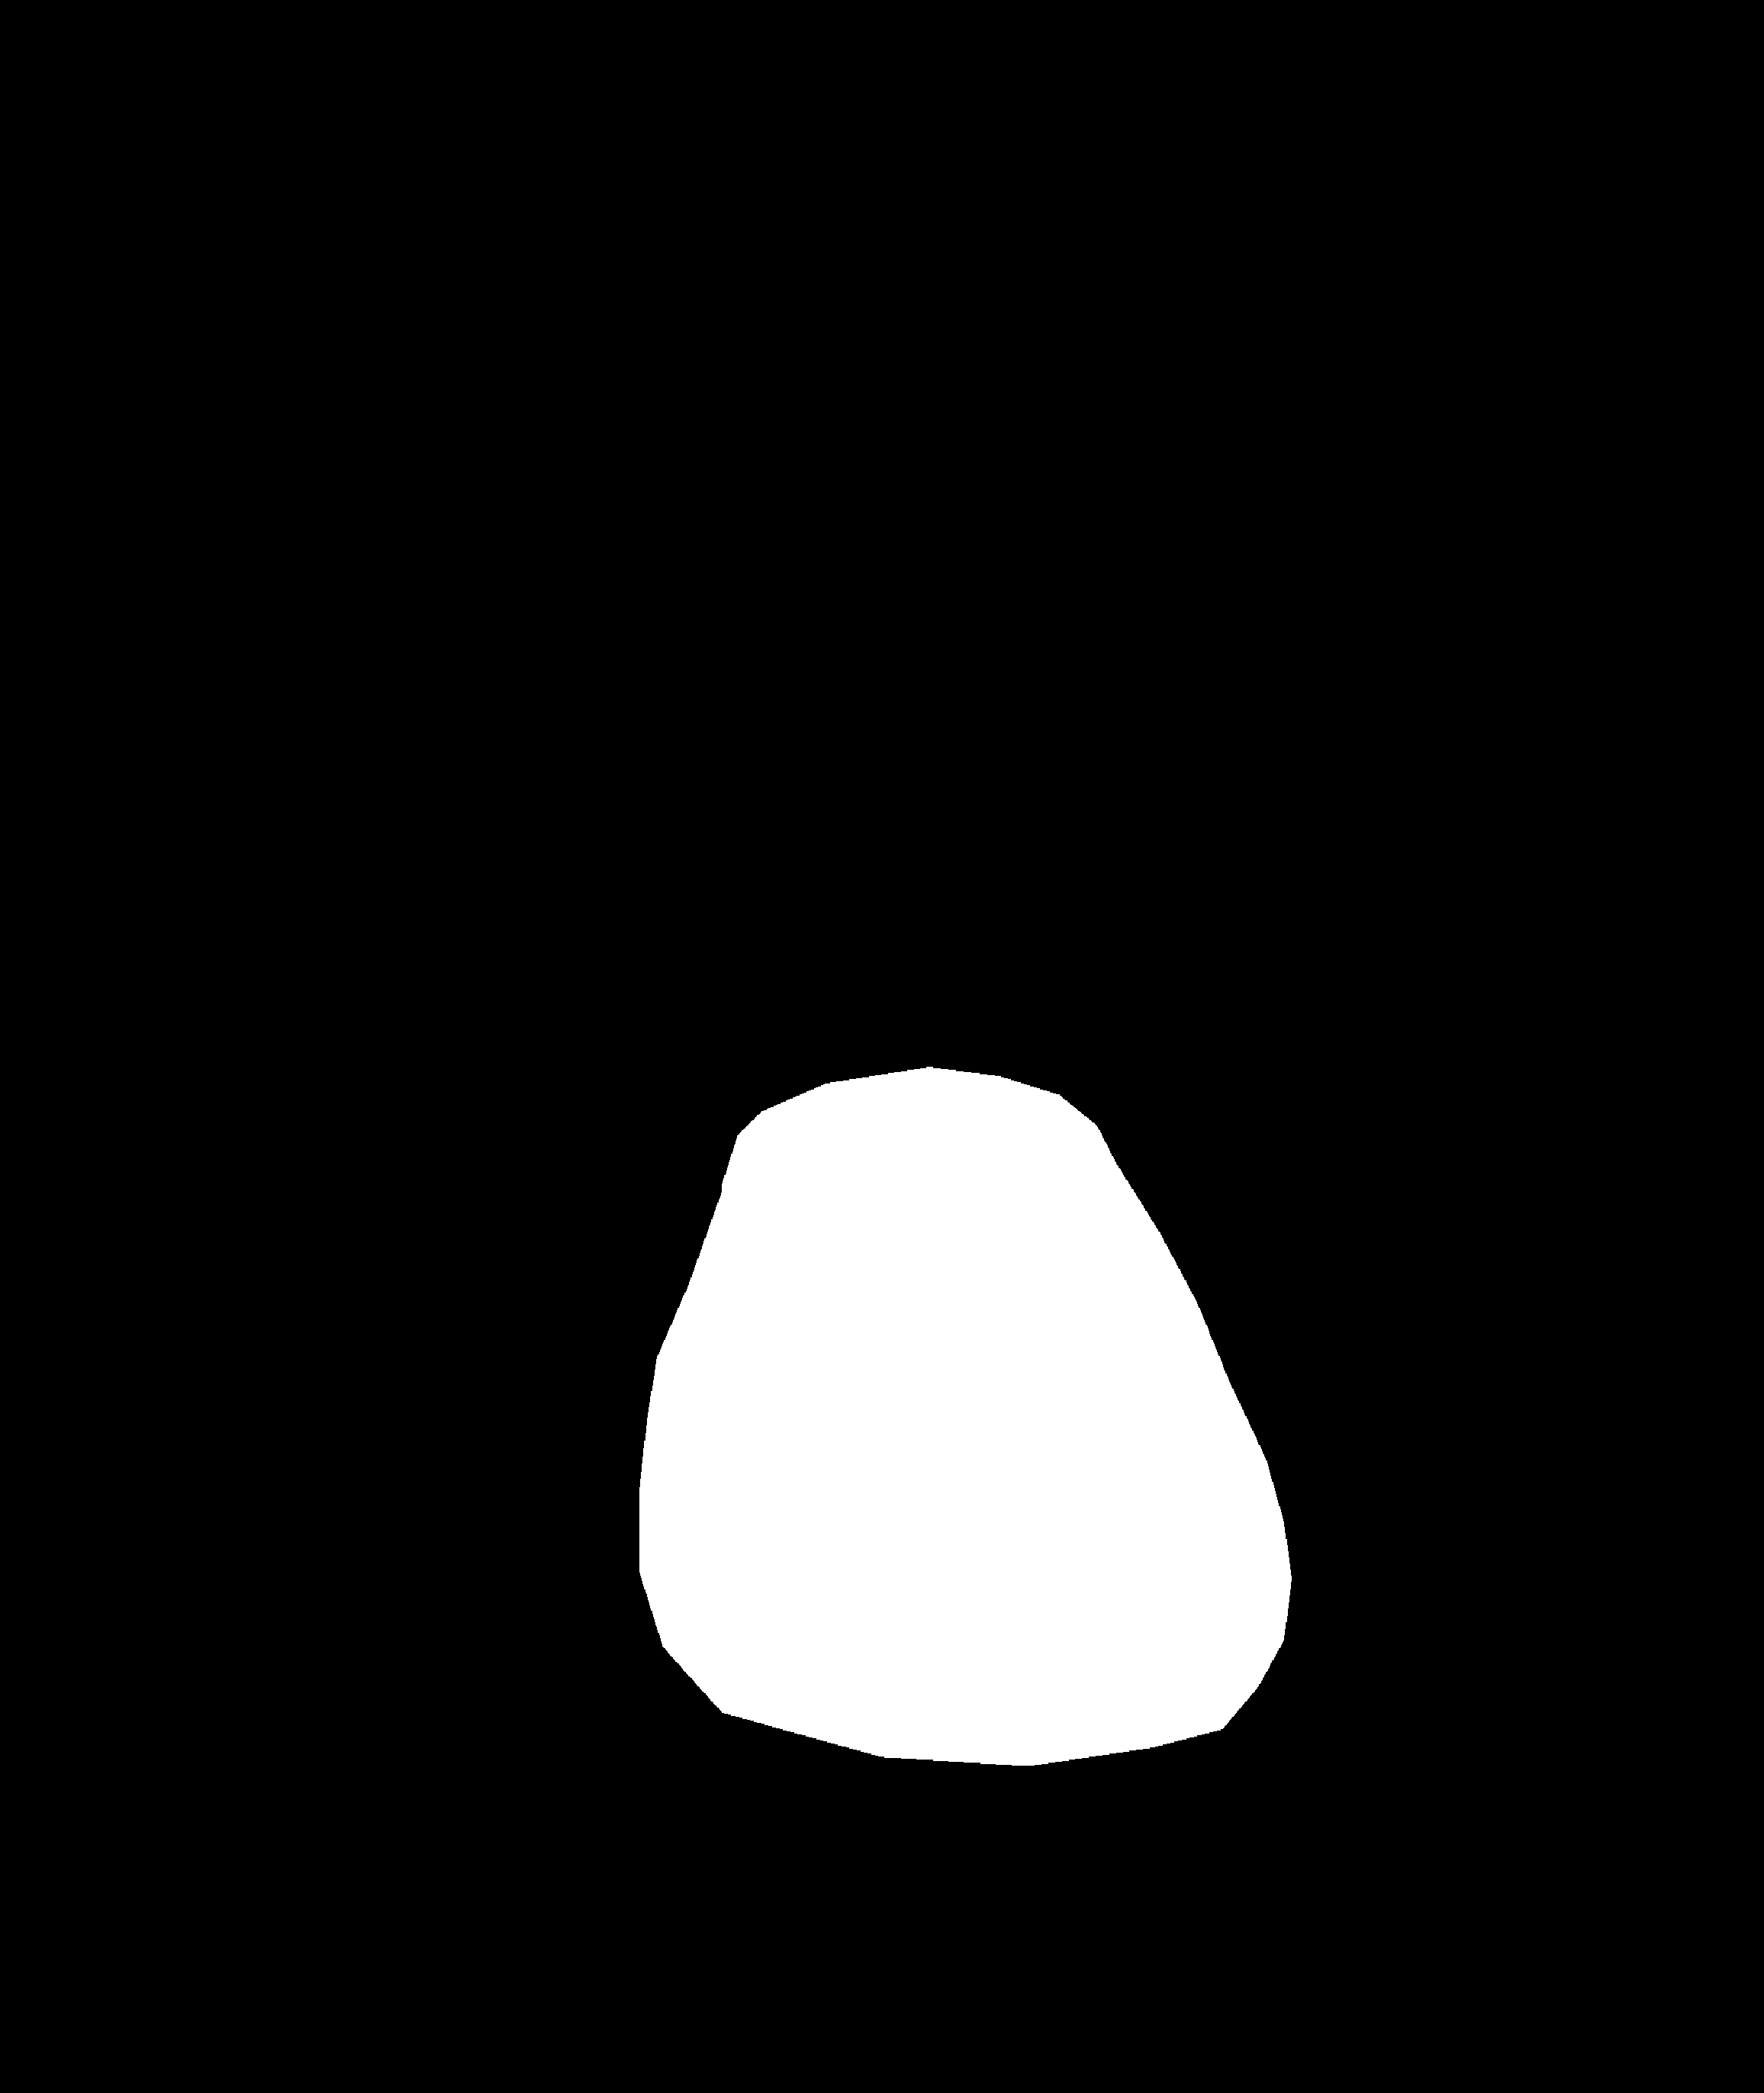heart: (637, 1227, 1290, 1741)
left_lung: (171, 329, 758, 1685)
right_lung: (917, 287, 1571, 1748)
